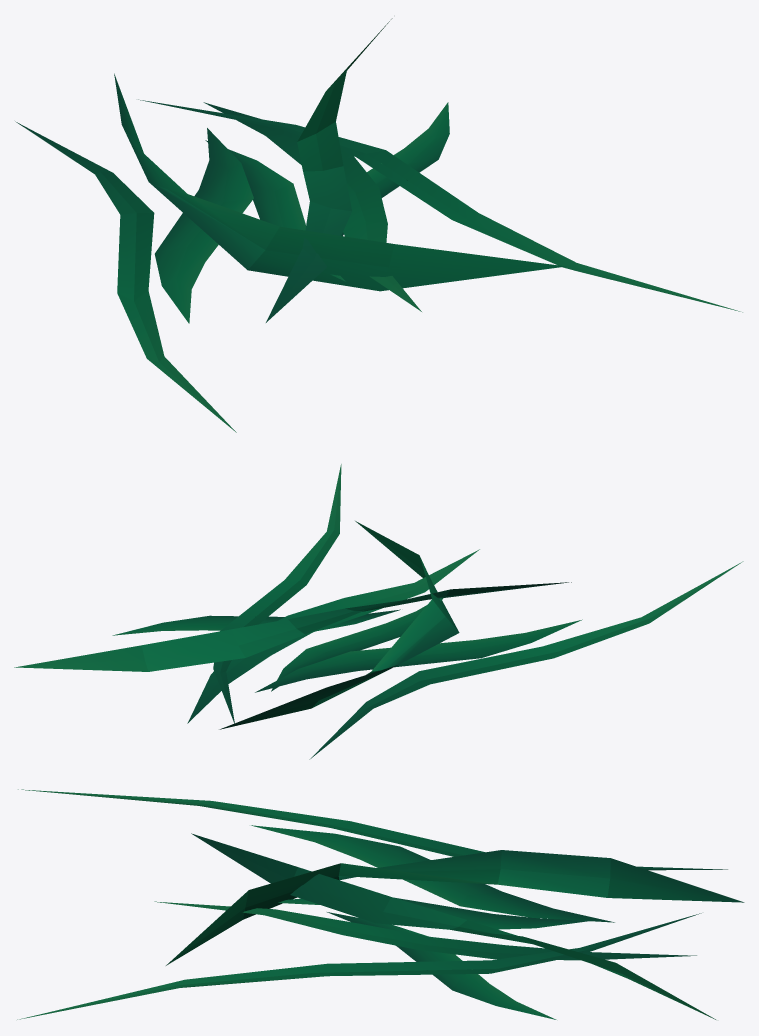
File: Seaweed_3.fbx
3 views of the same model, one above another, from view 1: azimuth 30°, elevation 25°; view 2: azimuth 150°, elevation 25°; view 3: azimuth 270°, elevation 25° (orthographic). The views are drawn at different scales.
Visible parts, largest first — view 1: Seaweed_3; view 2: Seaweed_3; view 3: Seaweed_3.
Part boxes in pixels (bbox=[...]): Seaweed_3: bbox=[15, 18, 742, 432]; Seaweed_3: bbox=[14, 464, 743, 759]; Seaweed_3: bbox=[17, 789, 744, 1019].
Bounding box in the file's own units: 384 × 31.97 × 488.
